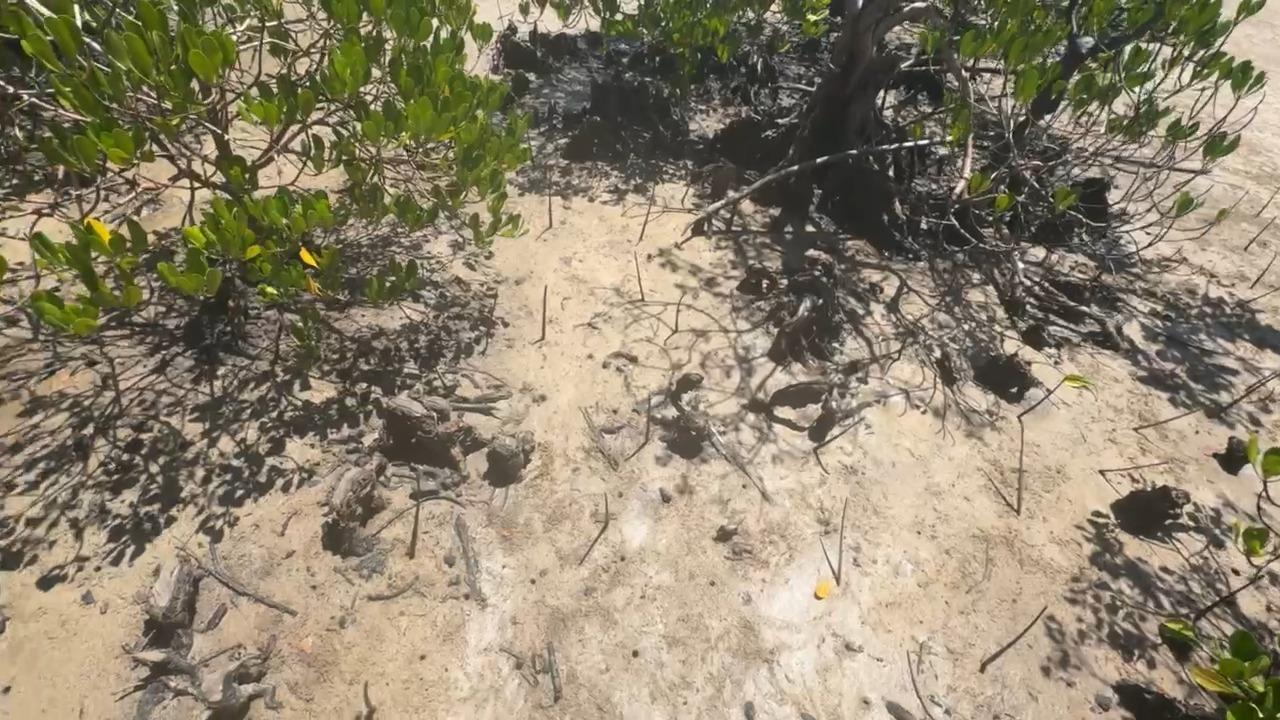Tree: (983, 606, 1047, 665), (1017, 374, 1095, 418), (1132, 402, 1212, 429), (813, 417, 864, 452), (1244, 216, 1276, 252), (1232, 286, 1280, 309), (408, 476, 421, 559), (639, 181, 655, 241), (1250, 253, 1277, 288), (837, 497, 847, 586), (1098, 461, 1169, 472), (1256, 186, 1280, 216), (1017, 427, 1024, 515), (634, 251, 645, 300), (363, 681, 376, 712), (541, 285, 548, 340), (644, 395, 651, 444), (526, 130, 535, 166), (681, 178, 692, 204), (604, 492, 611, 526), (548, 177, 552, 228)
